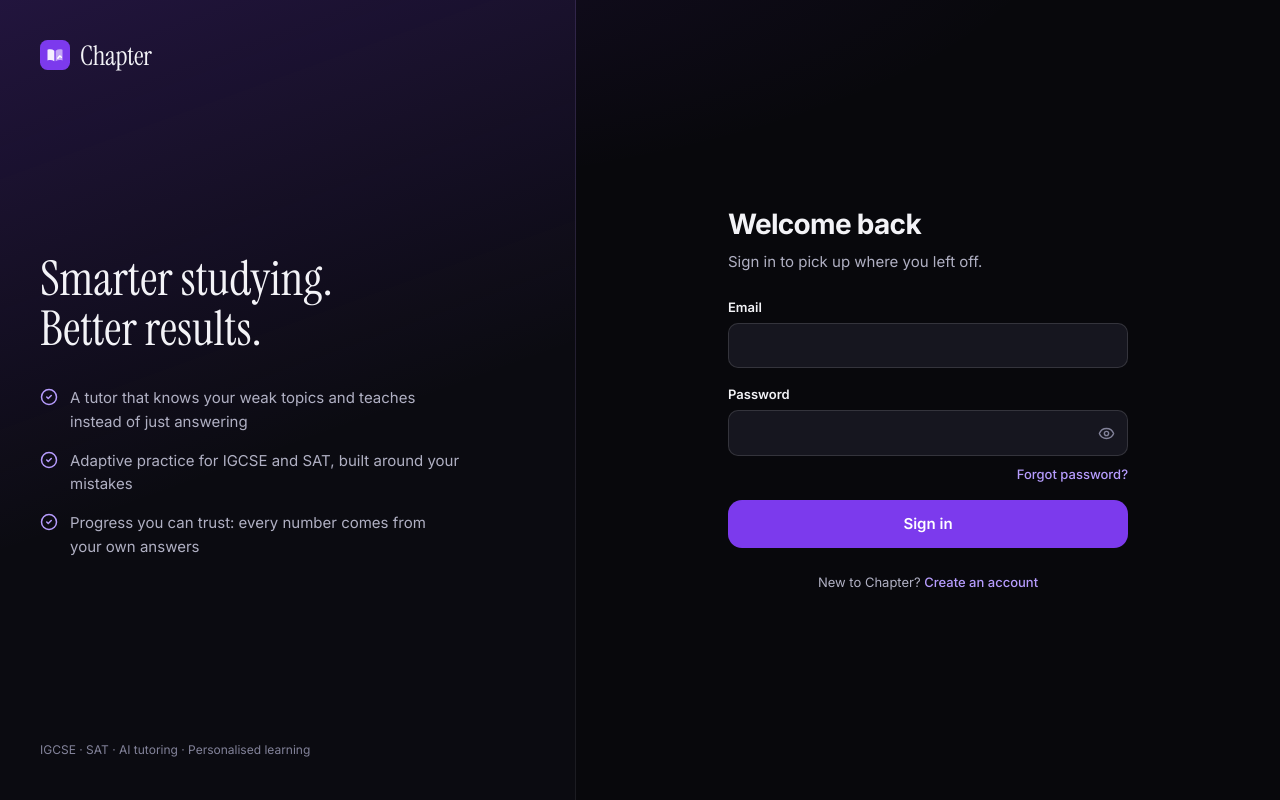
Test: Sign in › validates input and shows a generic error for bad credentials
Click the button "Sign in": [928, 524] box [728,500,1128,548]
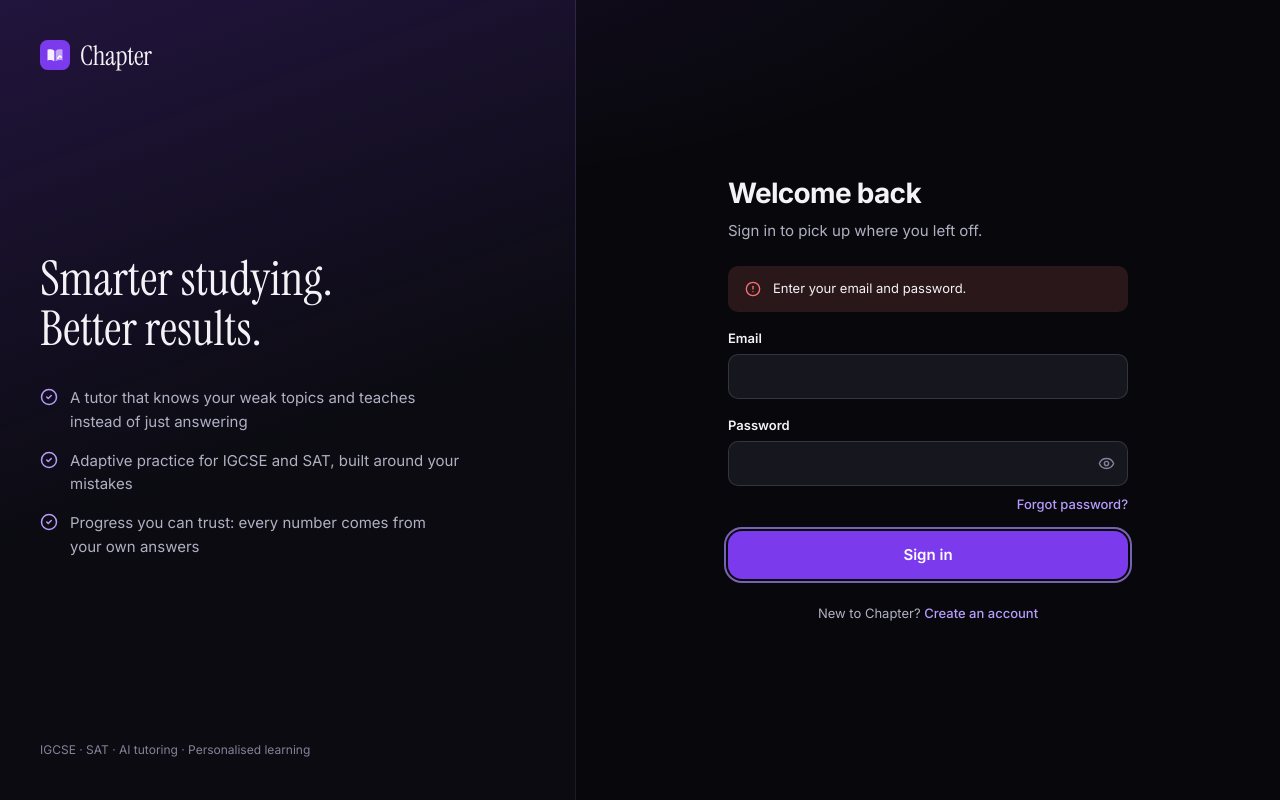
Result: the text "Enter your email and password." is shown at [773,279,966,299]
In the field labelled "Email": [928, 376] box [728,354,1128,399], type "sam@example.com"
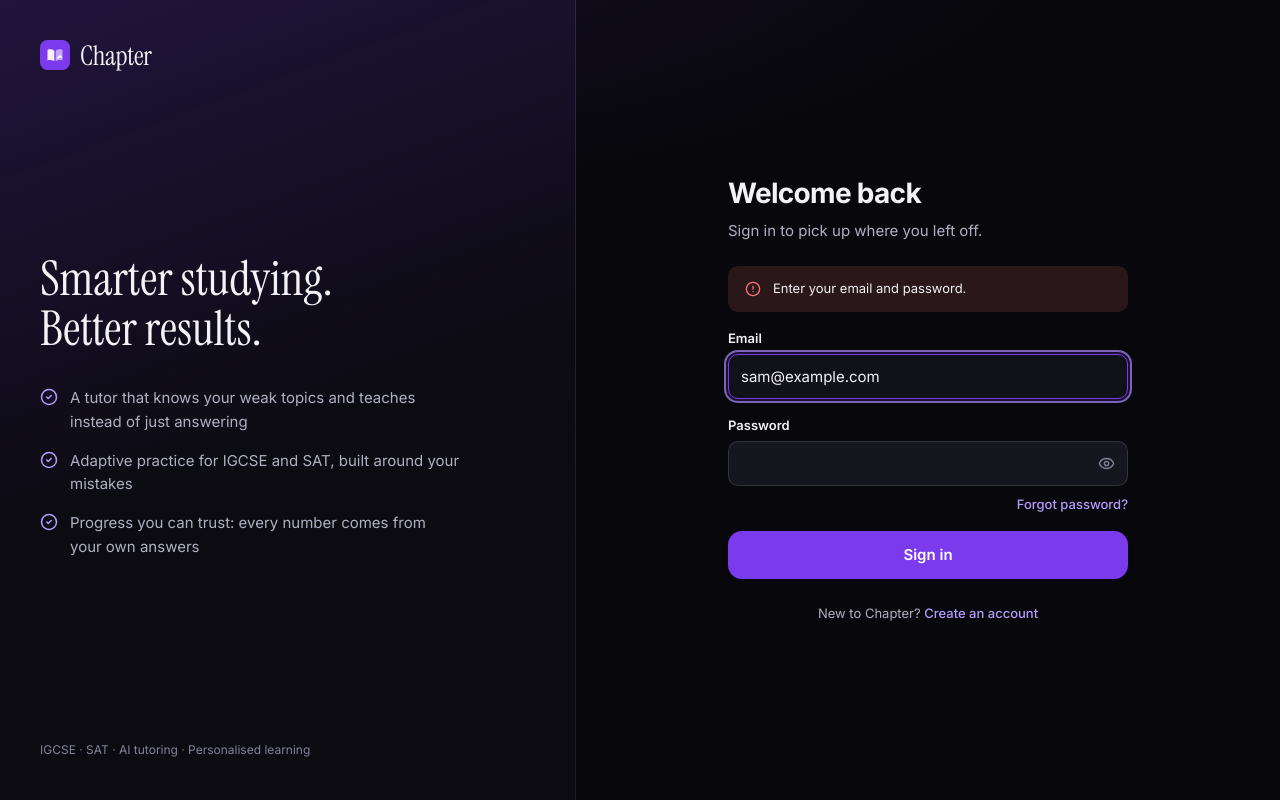
In the password field labelled "Password": [928, 464] box [728,441,1128,486], type "wrongpass1"
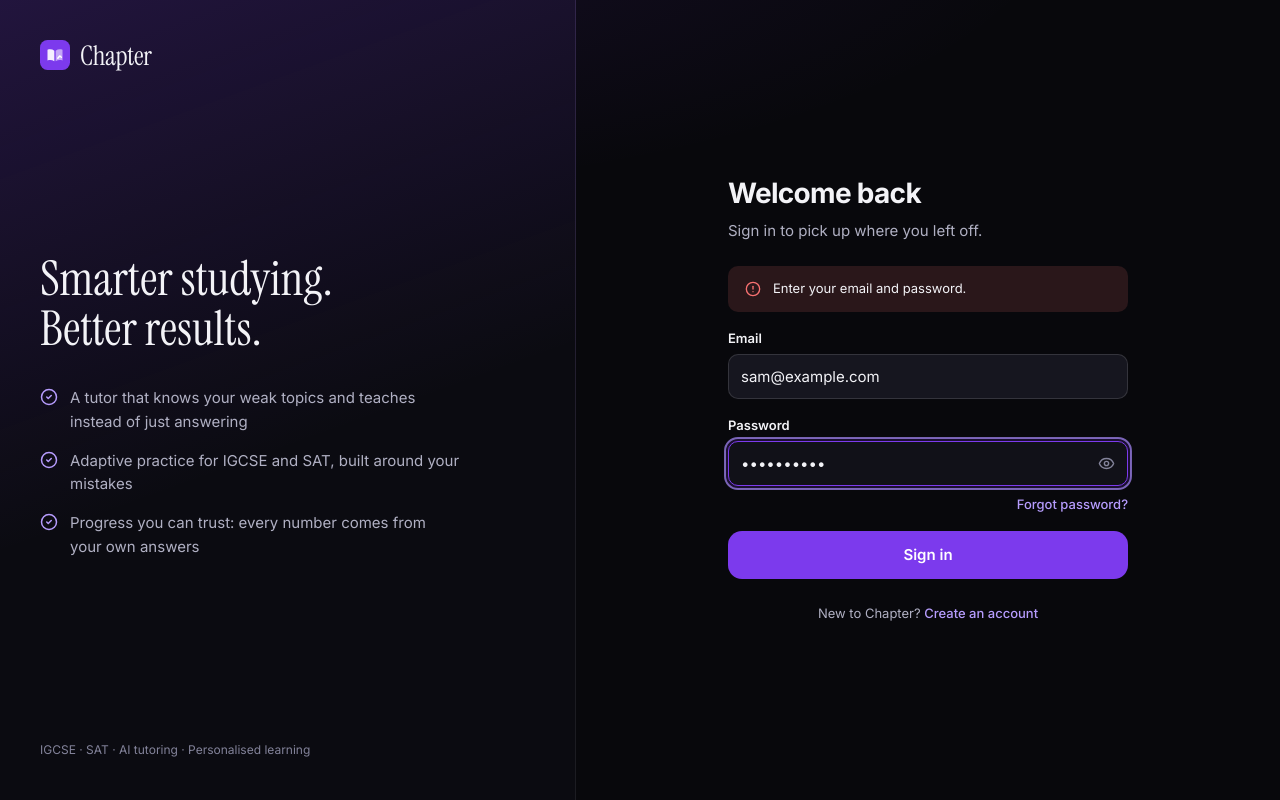
Click the button "Sign in": [928, 555] box [728,531,1128,579]
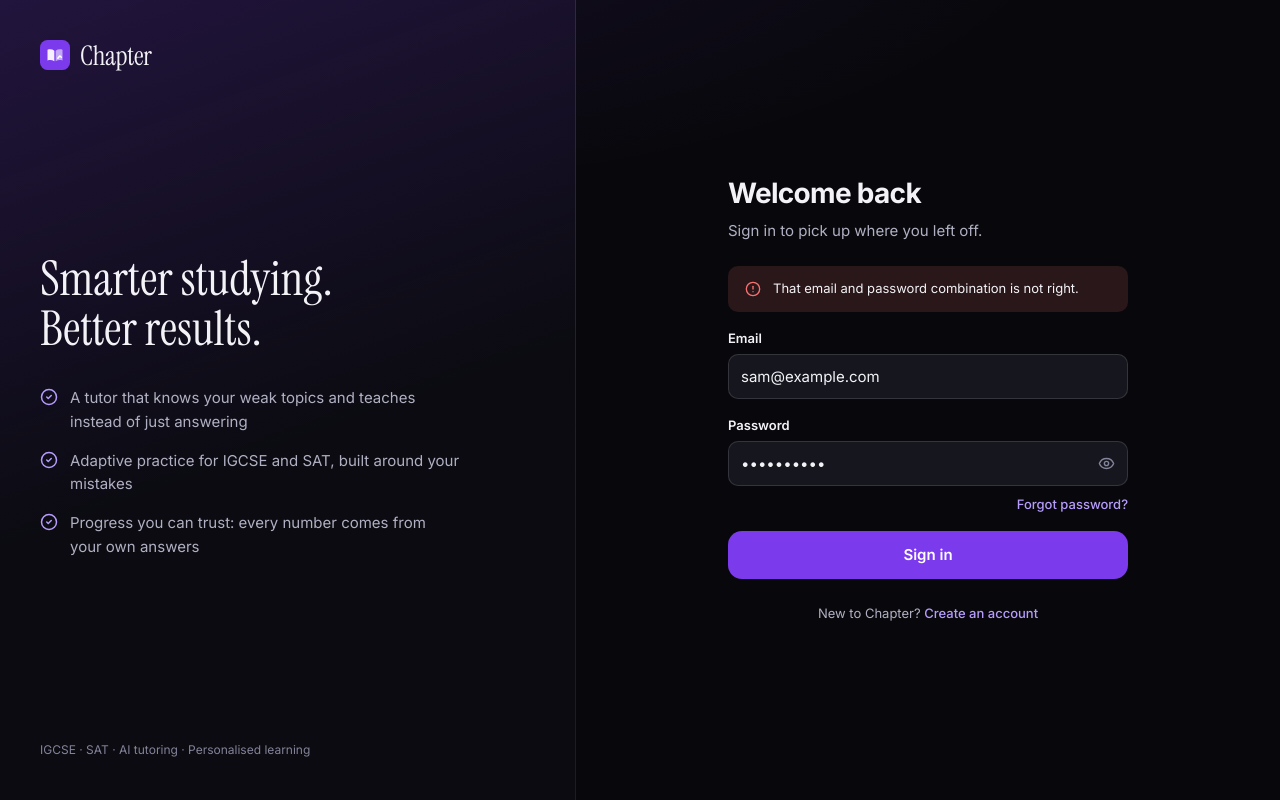
Result: the text "That email and password combination is not right." is shown at [773,279,1079,299]
